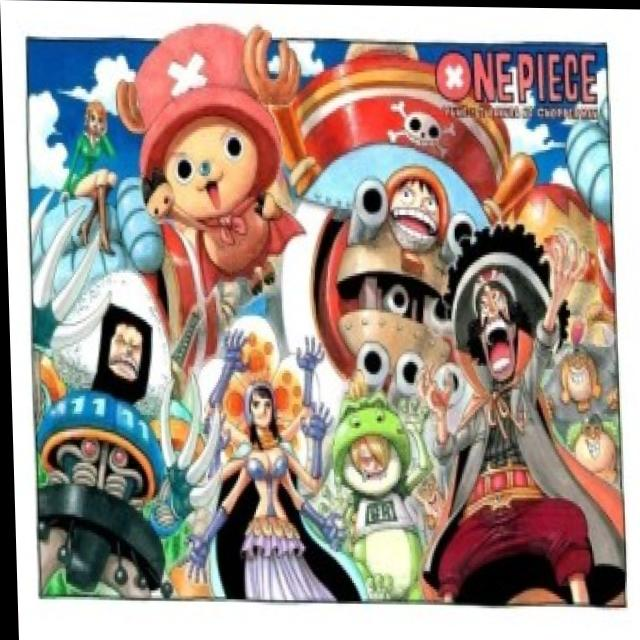Chyopa: (124, 41, 309, 272)
Usopp: (443, 240, 550, 389)
